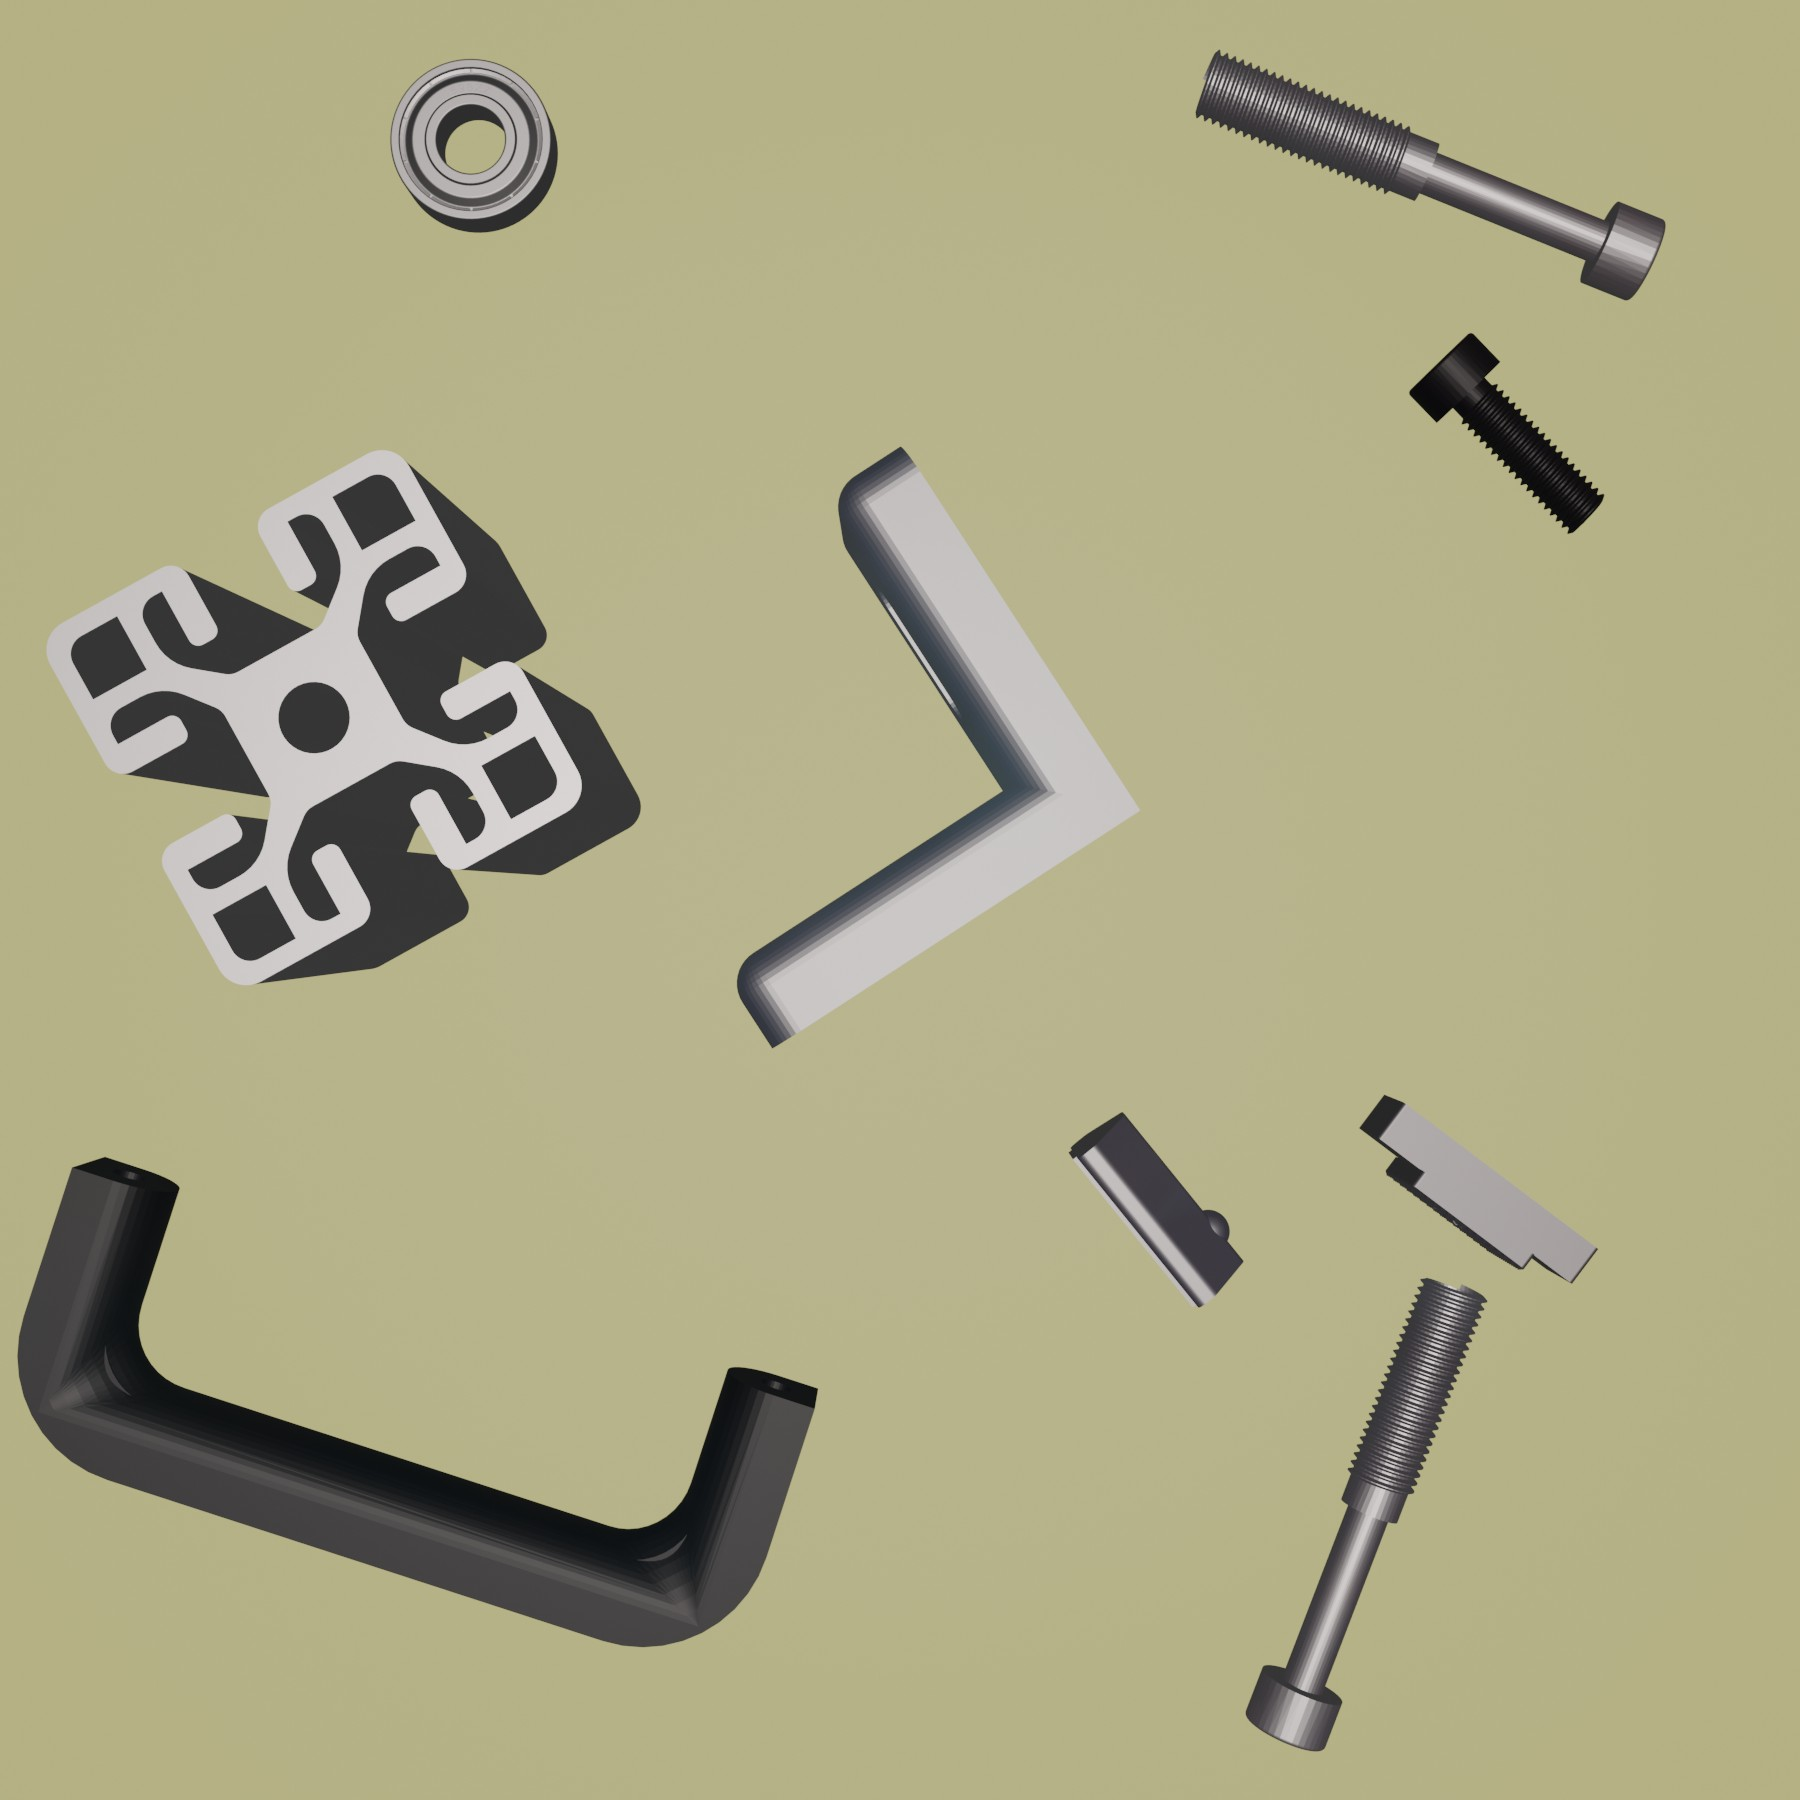Aluminium Extension: (43, 447, 641, 991)
Ball Bearing: (386, 53, 560, 236)
Multiwinkel: (734, 442, 1147, 1053)
Pull Handle: (12, 1154, 819, 1648)
Shoulder Socket Head Cap Screw: (1193, 49, 1666, 303), (1243, 1274, 1492, 1754)
Socket Head Cap Screw: (1408, 330, 1605, 537)
T Nut Square: (1357, 1091, 1601, 1287)
T Spring Nut: (1070, 1108, 1246, 1310)
